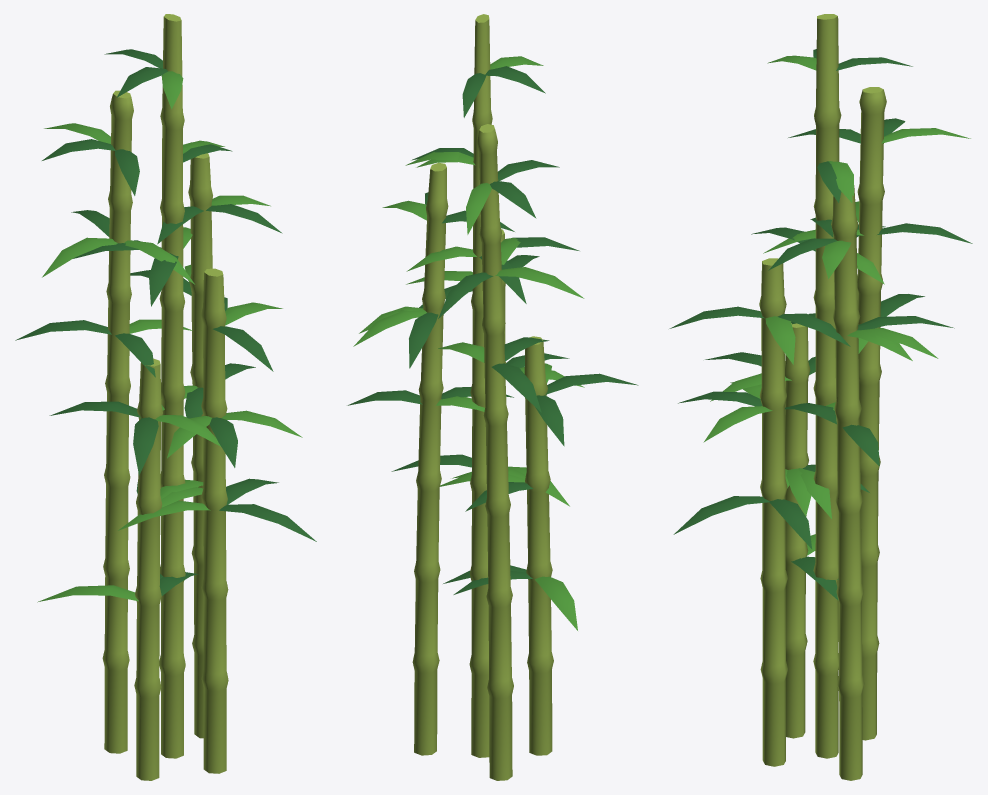
The model's file is bamboo.glb.
3 views of the same model, side by side, from view 1: azimuth 30°, elevation 25°; view 2: azimuth 150°, elevation 25°; view 3: azimuth 270°, elevation 25° (orthographic).
Visible parts, largest first — view 1: Bamboo canes; view 2: Bamboo canes; view 3: Bamboo canes.
Part boxes in pixels (x1,y1,x2,y2): Bamboo canes: [15, 14, 316, 780]; Bamboo canes: [347, 14, 638, 780]; Bamboo canes: [669, 14, 972, 780].
Bounding box in the file's own units: 1.1 × 3.4 × 1.28.
